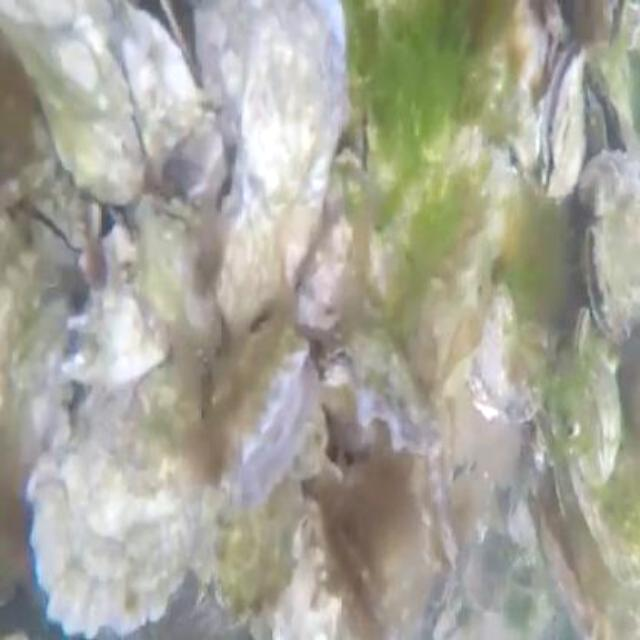Oyster-Closed: (28, 356, 217, 638), (215, 0, 355, 334), (404, 132, 527, 387), (0, 0, 145, 198), (94, 0, 225, 207), (552, 415, 638, 590), (359, 95, 460, 239)
Oyster-Open: (324, 452, 457, 638), (201, 310, 315, 512), (162, 0, 267, 154), (320, 326, 441, 456), (581, 119, 638, 342), (540, 40, 587, 194), (26, 174, 95, 267), (582, 36, 635, 152)
